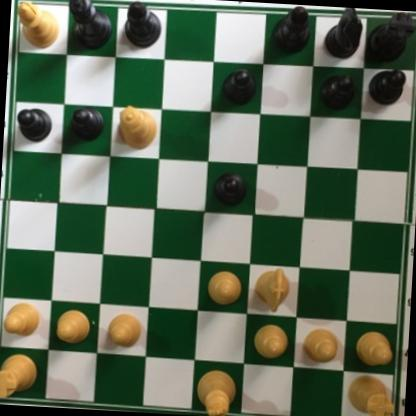black-bishop: (270, 4, 314, 55), (123, 0, 163, 51)
black-king: (66, 0, 115, 51)
black-knight: (323, 7, 366, 63)
black-pawn: (315, 71, 356, 113), (367, 66, 407, 107), (65, 105, 107, 144), (221, 67, 259, 109), (13, 107, 53, 144), (212, 170, 249, 208)
black-rook: (363, 10, 416, 66)
white-bishop: (16, 0, 63, 51)
white-king: (193, 364, 239, 416)
white-knight: (251, 265, 293, 313)
white-pawn: (0, 295, 44, 341), (351, 328, 392, 372), (53, 305, 95, 347), (204, 266, 243, 309), (249, 322, 290, 362), (106, 308, 144, 350), (299, 328, 340, 365)
white-queen: (115, 104, 160, 152)
white-rook: (342, 371, 397, 416), (0, 350, 40, 402)
